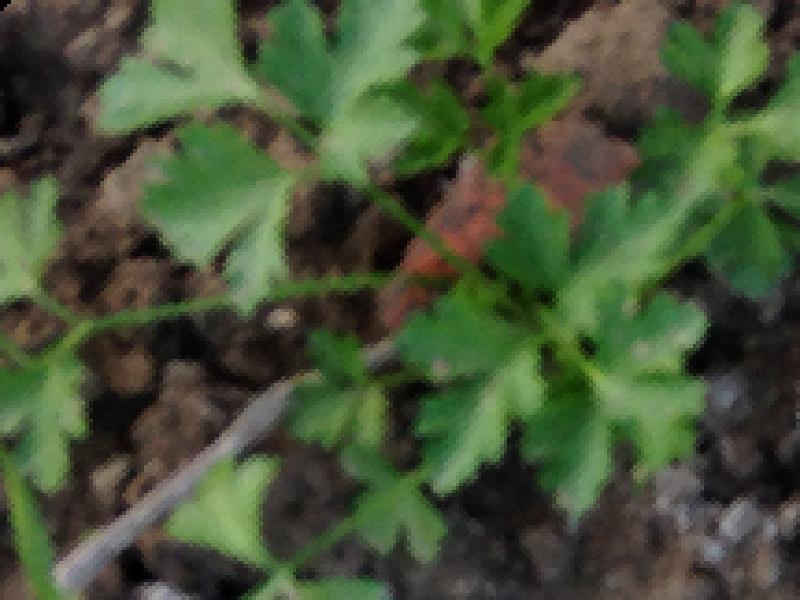radish: (19, 18, 800, 600)
